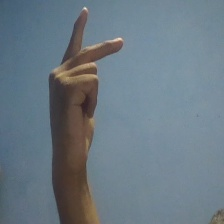K: (43, 4, 128, 168)
